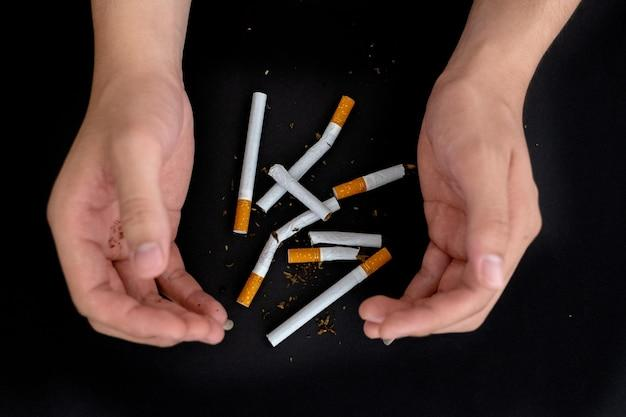cigarette: (266, 247, 390, 346), (288, 95, 354, 180), (233, 92, 266, 233), (268, 164, 331, 220), (332, 164, 415, 199)
